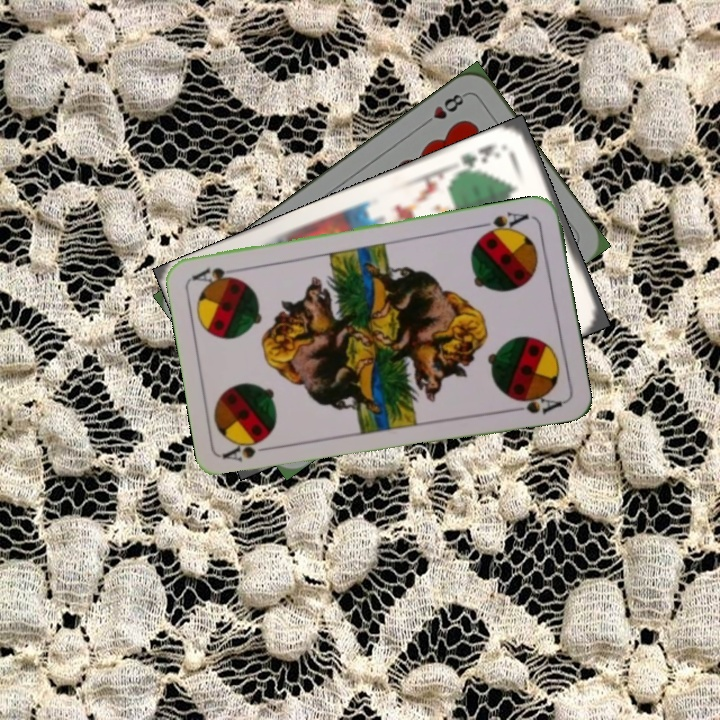GK: (453, 140, 504, 177)
H8: (418, 89, 469, 129)
SA: (475, 207, 531, 239), (220, 438, 279, 464)
